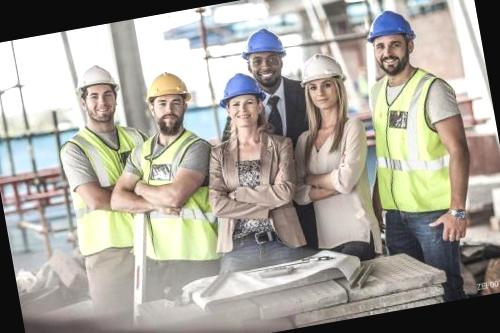helmet: (240, 23, 287, 58), (362, 7, 416, 36), (144, 68, 190, 99), (71, 60, 116, 89), (217, 68, 261, 97), (297, 51, 342, 79)
no_vest: (212, 126, 300, 251), (297, 114, 376, 241)
person: (353, 0, 484, 273), (40, 54, 160, 312), (122, 60, 230, 286), (196, 64, 312, 270), (274, 49, 386, 252)
